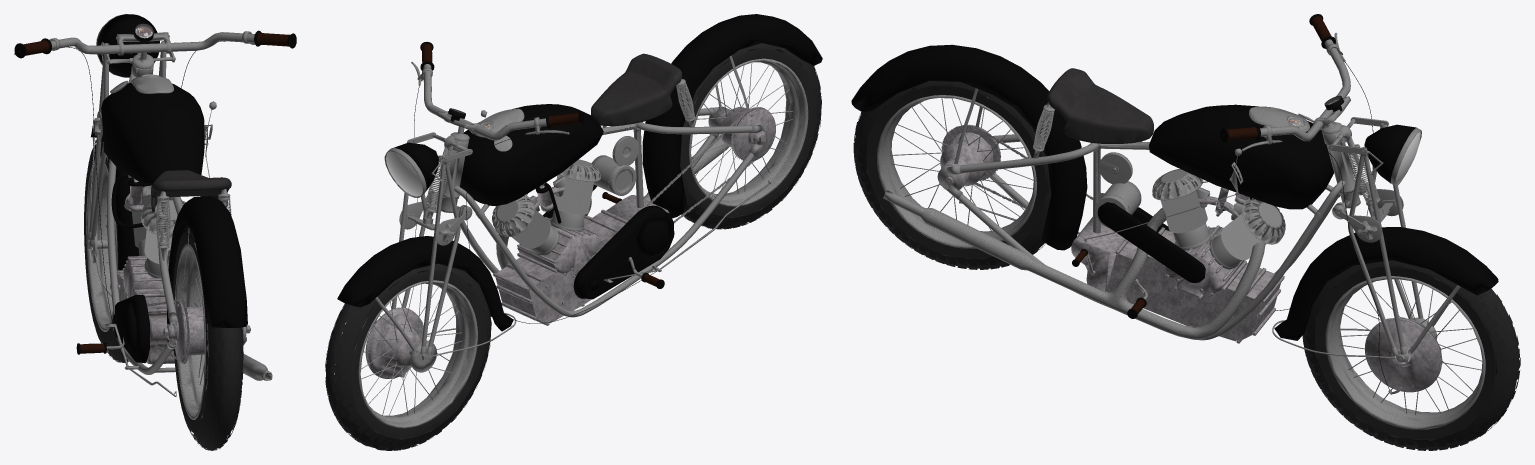
File: bar_bike.glb
The picture shows the model from 3 angles, left to right: view 1: azimuth 30°, elevation 25°; view 2: azimuth 150°, elevation 25°; view 3: azimuth 270°, elevation 25°; orthographic projection. The views are drawn at different scales.
Parts seen in each view (by area): view 1: engine; view 2: engine; view 3: engine.
Part boxes in pixels (box(x1,y1,x2,y2)): engine: box(14, 14, 296, 450); engine: box(325, 14, 822, 450); engine: box(851, 14, 1520, 450).
Size of the model in its own units: 0.9542 by 1.27 by 2.1.
Materials: 16 (10 with a texture image).
